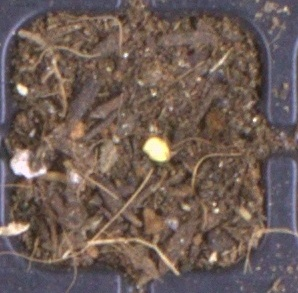chilli seed: (141, 136, 170, 162)
